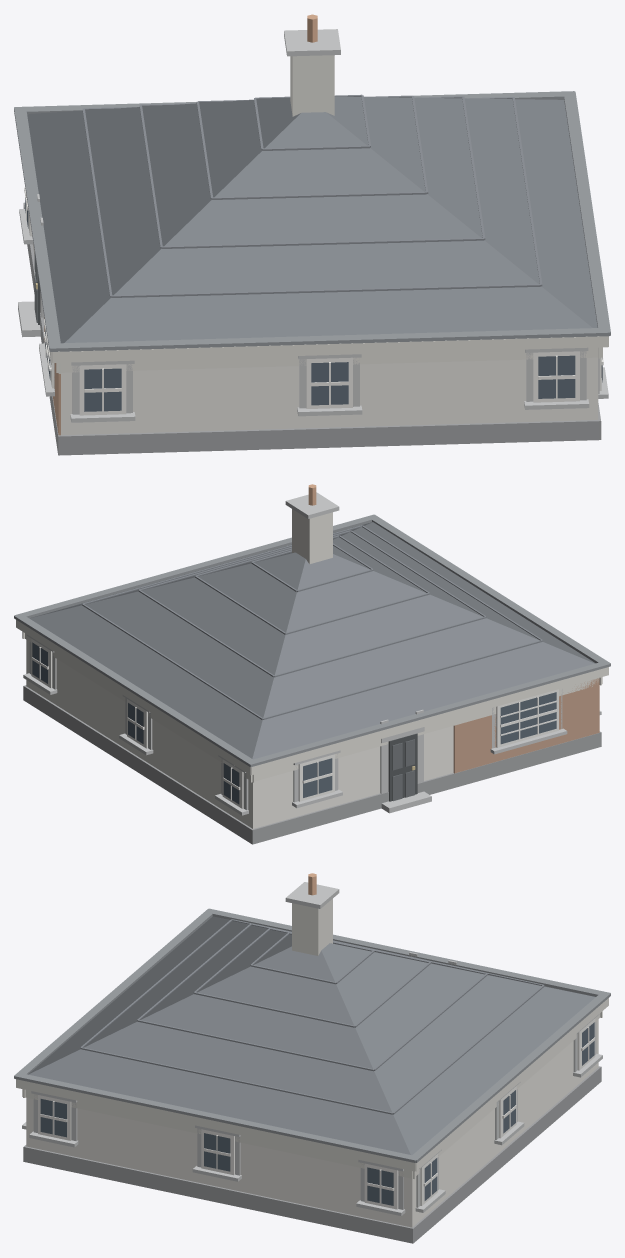
The picture shows the model from 3 angles, top to bottom: view 1: azimuth 30°, elevation 25°; view 2: azimuth 150°, elevation 25°; view 3: azimuth 270°, elevation 25°; orthographic projection. The views are drawn at different scales.
Visible parts, largest first — view 1: slate, harl, lead, plinth, string, stone_band, slate_lt, frame, chim_render, window_glass_008, window_glass_007, window_glass_006; view 2: slate, harl, lead, plinth, string, slate_lt, stone_band, ss_red, frame, chim_render, window_glass_002, door_dark_p (+2 smaller); view 3: slate, harl, lead, plinth, string, slate_lt, stone_band, frame, chim_render, window_glass_010, window_glass_011, window_glass_009.
Boxes of the visible parts, box(x1,y1,x2,y2) form: slate: box(27, 96, 597, 343); harl: box(32, 244, 598, 435); lead: box(14, 91, 610, 351); plinth: box(23, 202, 601, 455); string: box(49, 336, 608, 373); stone_band: box(18, 29, 608, 422); slate_lt: box(82, 94, 542, 297); frame: box(24, 187, 603, 415); chim_render: box(290, 55, 334, 116); window_glass_008: box(538, 355, 575, 398); window_glass_007: box(311, 362, 348, 405); window_glass_006: box(84, 368, 121, 411); slate: box(29, 522, 595, 759); harl: box(26, 640, 453, 828); lead: box(14, 514, 610, 766); plinth: box(23, 685, 601, 844); string: box(16, 620, 608, 782); slate_lt: box(82, 525, 542, 719); stone_band: box(23, 492, 601, 815); ss_red: box(453, 678, 599, 773); frame: box(31, 639, 558, 808); chim_render: box(292, 509, 332, 564); window_glass_002: box(500, 692, 556, 744); door_dark_p: box(392, 739, 414, 801); slate: box(28, 916, 595, 1155); harl: box(26, 1019, 598, 1227); lead: box(14, 908, 610, 1162); plinth: box(23, 1066, 601, 1243); string: box(16, 998, 608, 1179); slate_lt: box(80, 919, 544, 1114); stone_band: box(22, 882, 602, 1215); frame: box(38, 1018, 595, 1209); chim_render: box(292, 899, 332, 955); window_glass_010: box(204, 1133, 230, 1171); window_glass_011: box(367, 1167, 393, 1205); window_glass_009: box(40, 1099, 66, 1137).
Size of the model in its own units: 16.3 by 7.44 by 16.32.
